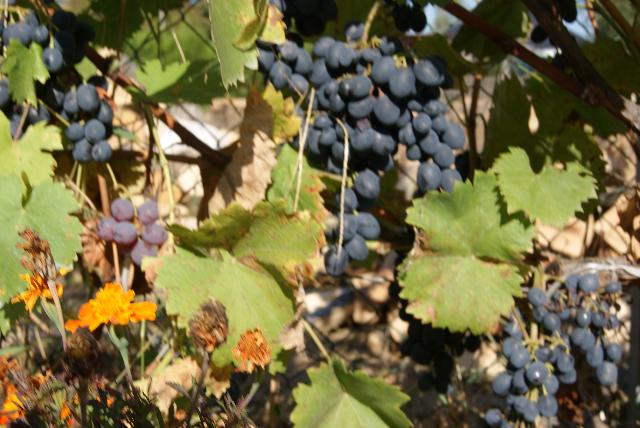grapes: (259, 21, 465, 276), (492, 274, 622, 418)
